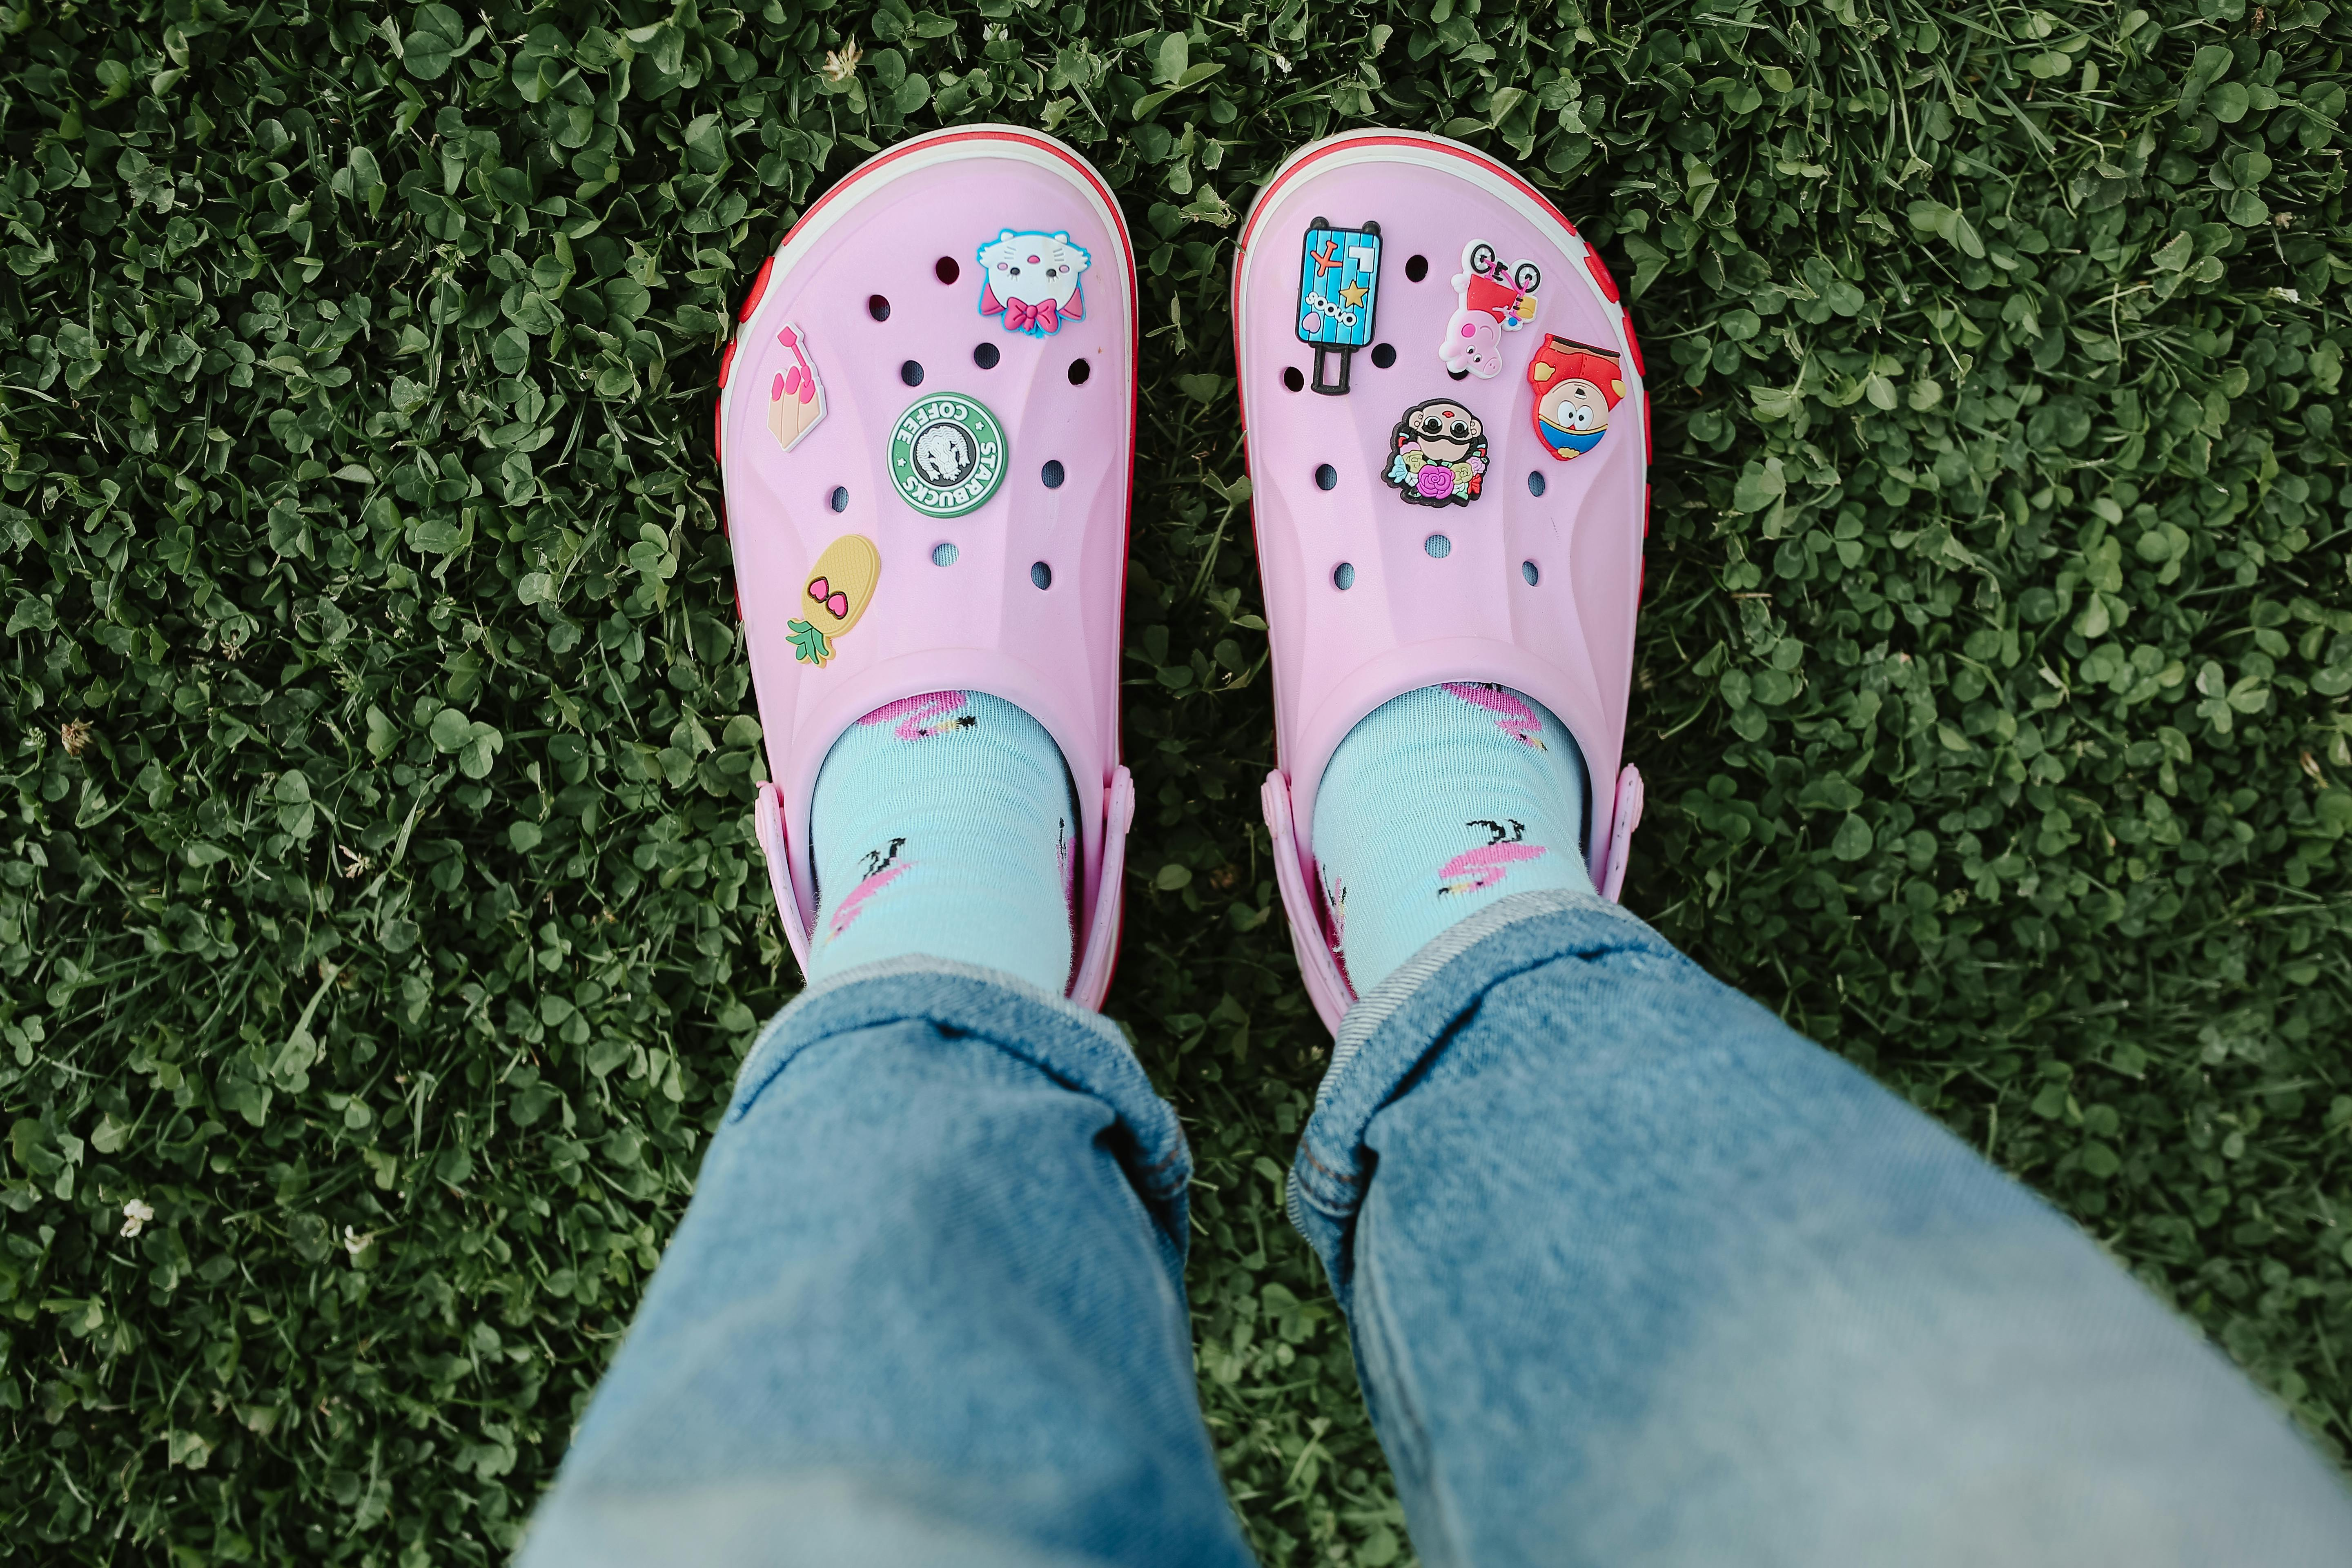Footwear: (728, 119, 1811, 863)
